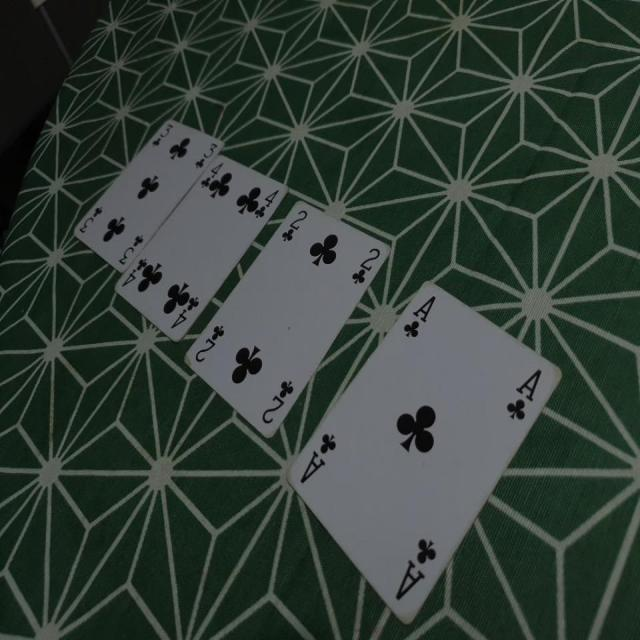2 Trefoils: (180, 197, 393, 442)
3 Trefoils: (70, 116, 224, 276)
4 Trefoils: (112, 154, 288, 344)
A Trefoils: (285, 277, 564, 626)
